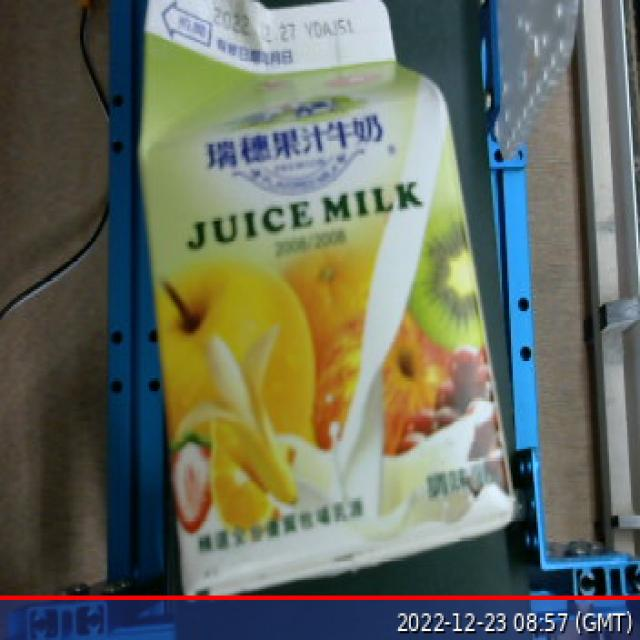non_white_jug: (116, 3, 520, 585)
